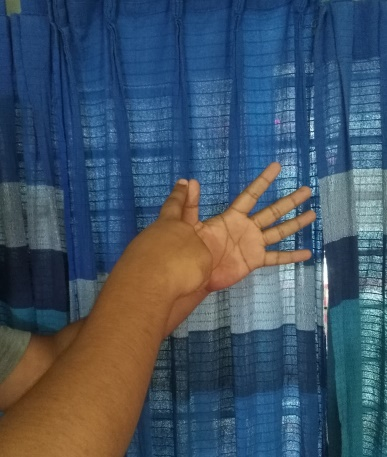a: (149, 163, 319, 298)
